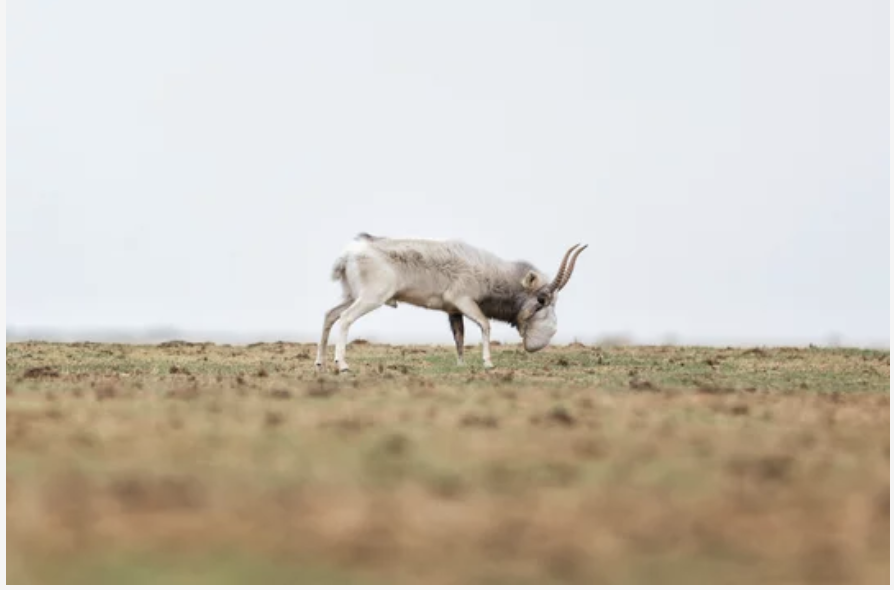saiga: (291, 215, 582, 406)
